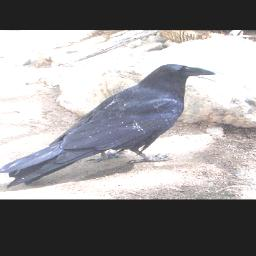Crow: (0, 62, 218, 190)
